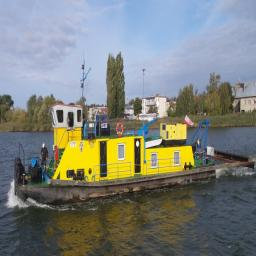tugboat: (14, 58, 256, 213)
